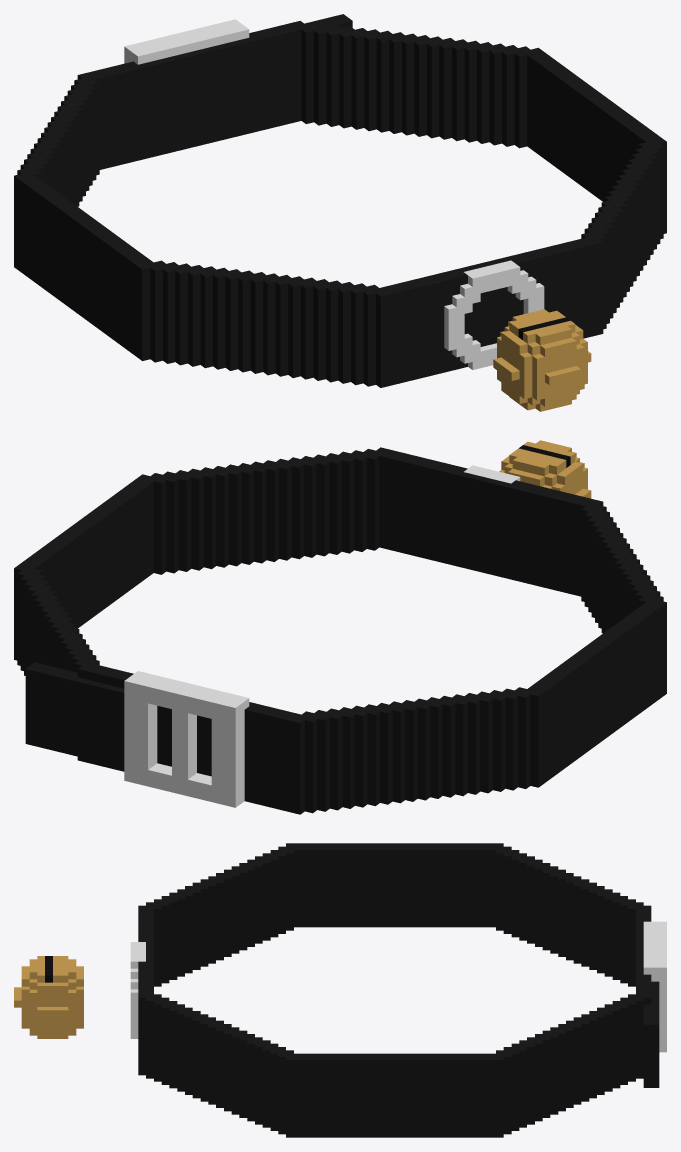
File: leather_collar.glb
The picture shows the model from 3 angles, top to bottom: view 1: azimuth 30°, elevation 25°; view 2: azimuth 150°, elevation 25°; view 3: azimuth 270°, elevation 25°; orthographic projection. The views are drawn at different scales.
Parts seen in each view (by area): view 1: leather_collar:compound; view 2: leather_collar:compound; view 3: leather_collar:compound.
Boxes of the visible parts, x1,y1,x2,y2 form: leather_collar:compound: (14,14,666,411); leather_collar:compound: (14,440,666,814); leather_collar:compound: (14,843,666,1137).
Bounding box in the file's own units: 0.132 × 0.024 × 0.168.
